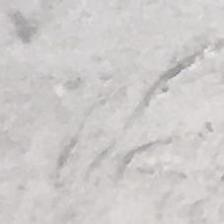Non_Crack: (11, 5, 221, 224)
